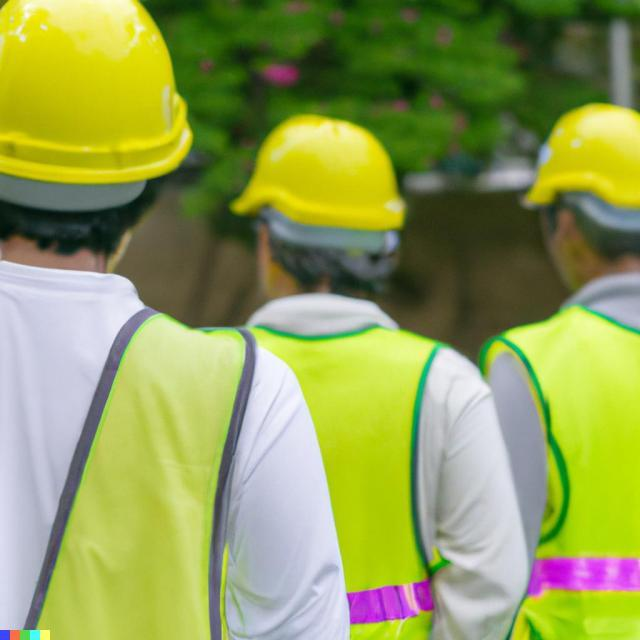reflective_jacket: (1, 281, 273, 635), (231, 301, 456, 638), (479, 289, 636, 639)
safety_helmet: (0, 3, 195, 186), (227, 108, 414, 240), (517, 96, 639, 220)
